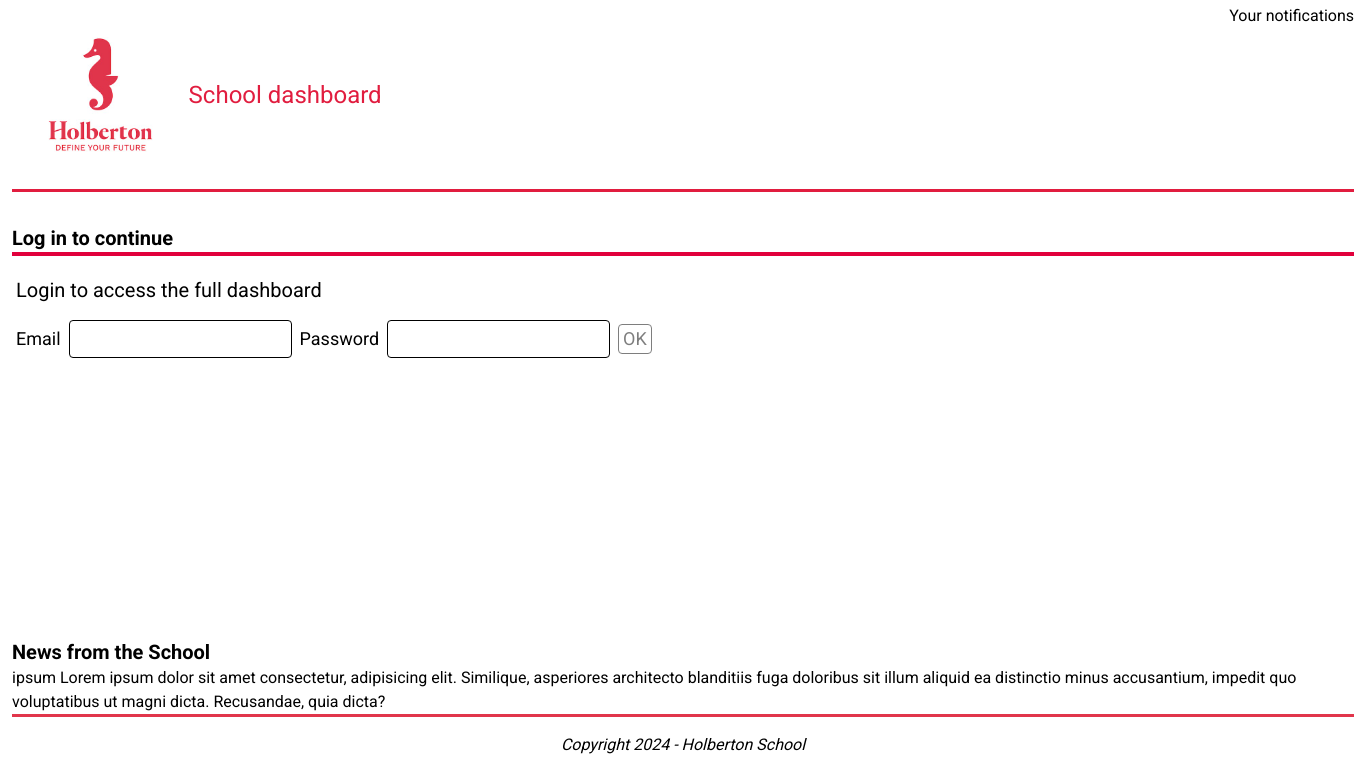
Test: App Component › clicking on "Your notifications" shows the notifications panel
Expected: the text "here is the list of notifications" is not shown
Click the text "Your notifications": click(1292, 16) top-left (1229, 4), bottom-right (1354, 28)
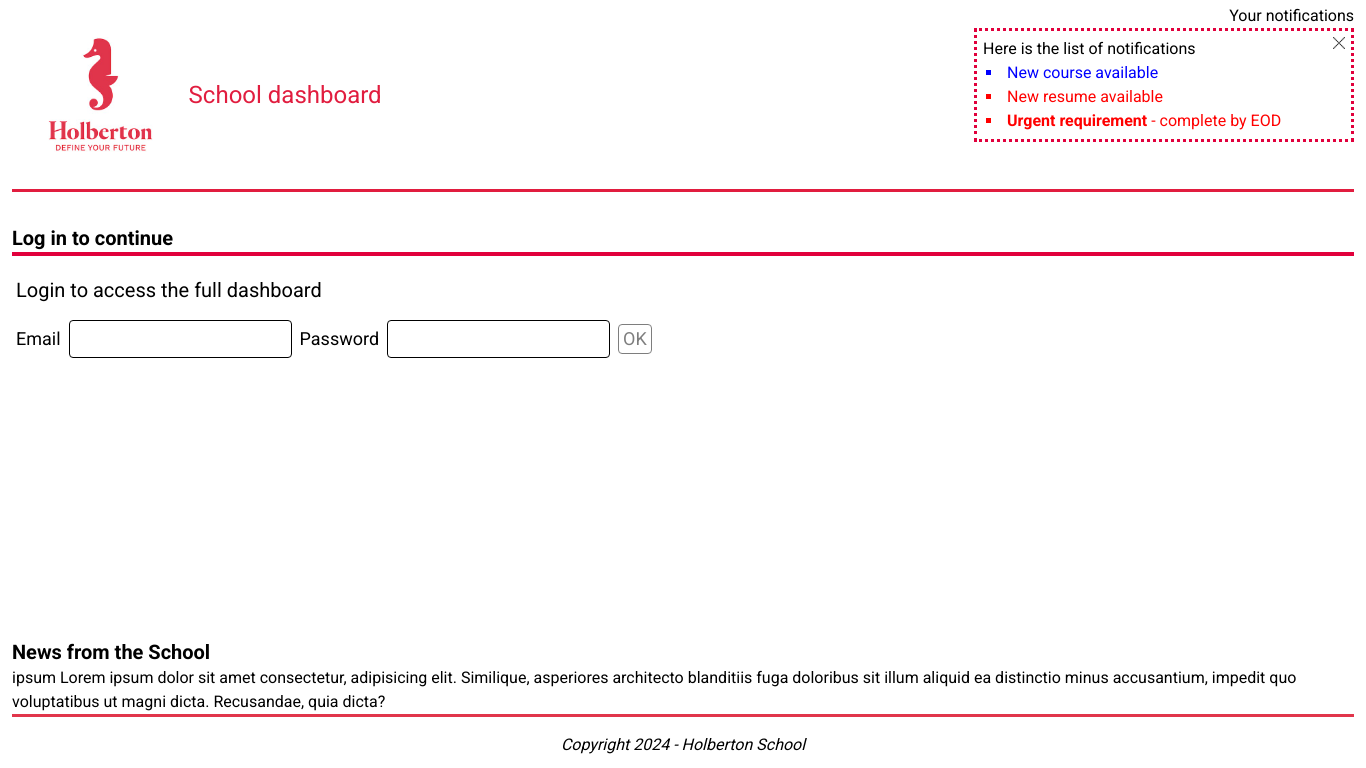
Expected: the text "Here is the list of notifications" is shown, top-left (983, 39), bottom-right (1196, 58)
